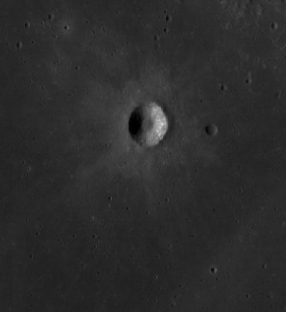crater: (54, 39, 190, 255), (193, 103, 240, 159)
